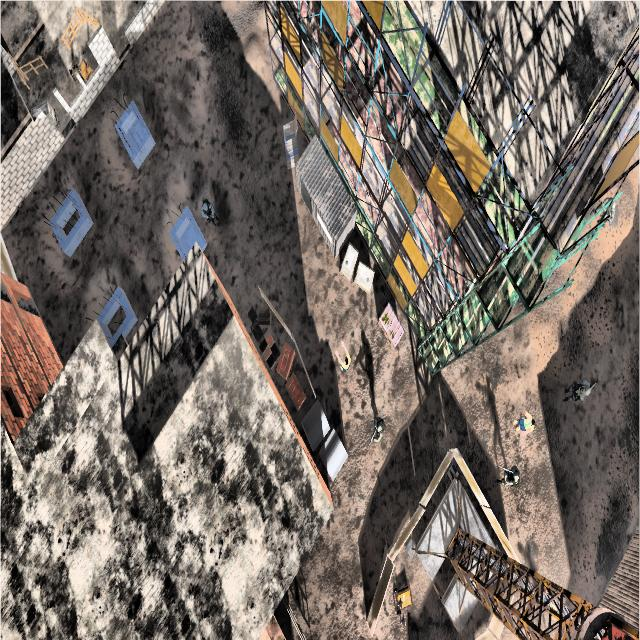bad: (563, 368, 598, 415), (493, 452, 524, 501), (196, 185, 220, 236), (366, 409, 391, 456)
good: (330, 335, 358, 382), (504, 403, 538, 441)
